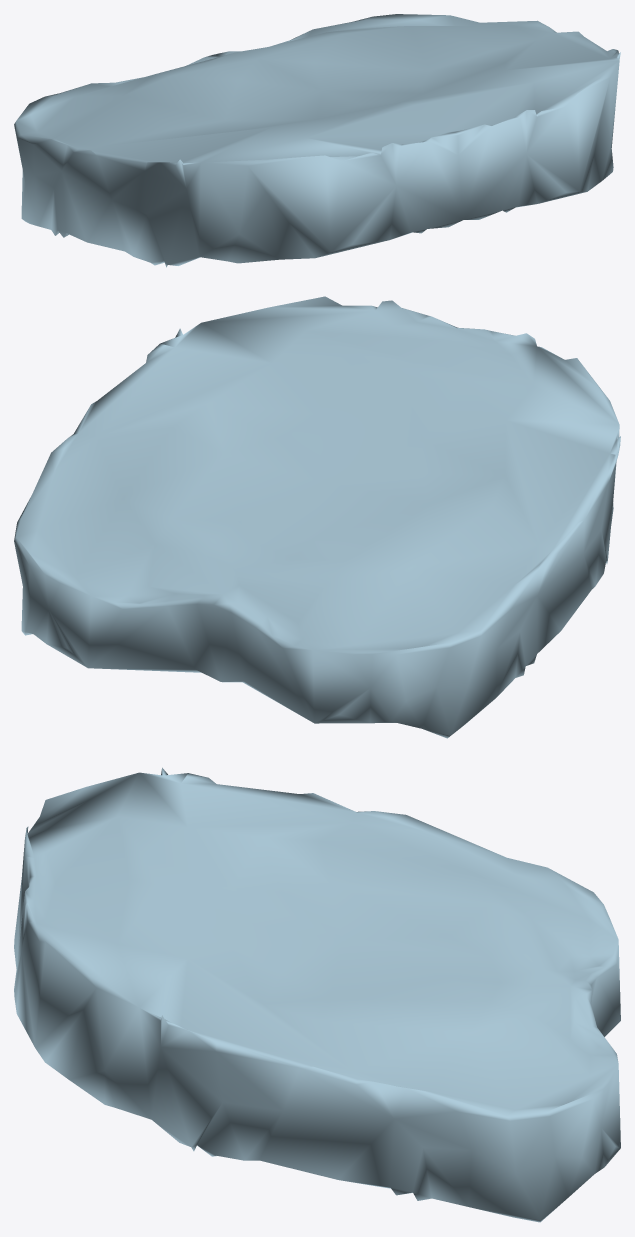
The model's file is articulacoes-intervertebral-disc-t9-t10.glb.
The picture shows the model from 3 angles, top to bottom: view 1: azimuth 30°, elevation 25°; view 2: azimuth 150°, elevation 25°; view 3: azimuth 270°, elevation 25°; orthographic projection. The views are drawn at different scales.
Parts seen in each view (by area): view 1: Intervertebral disc T9-T10; view 2: Intervertebral disc T9-T10; view 3: Intervertebral disc T9-T10.
Boxes of the visible parts, x1=… form: Intervertebral disc T9-T10: x1=14, y1=14, x2=620, y2=267; Intervertebral disc T9-T10: x1=14, y1=296, x2=620, y2=738; Intervertebral disc T9-T10: x1=14, y1=767, x2=620, y2=1222.
Size of the model in its own units: 0.0369 by 0.015 by 0.0346.
